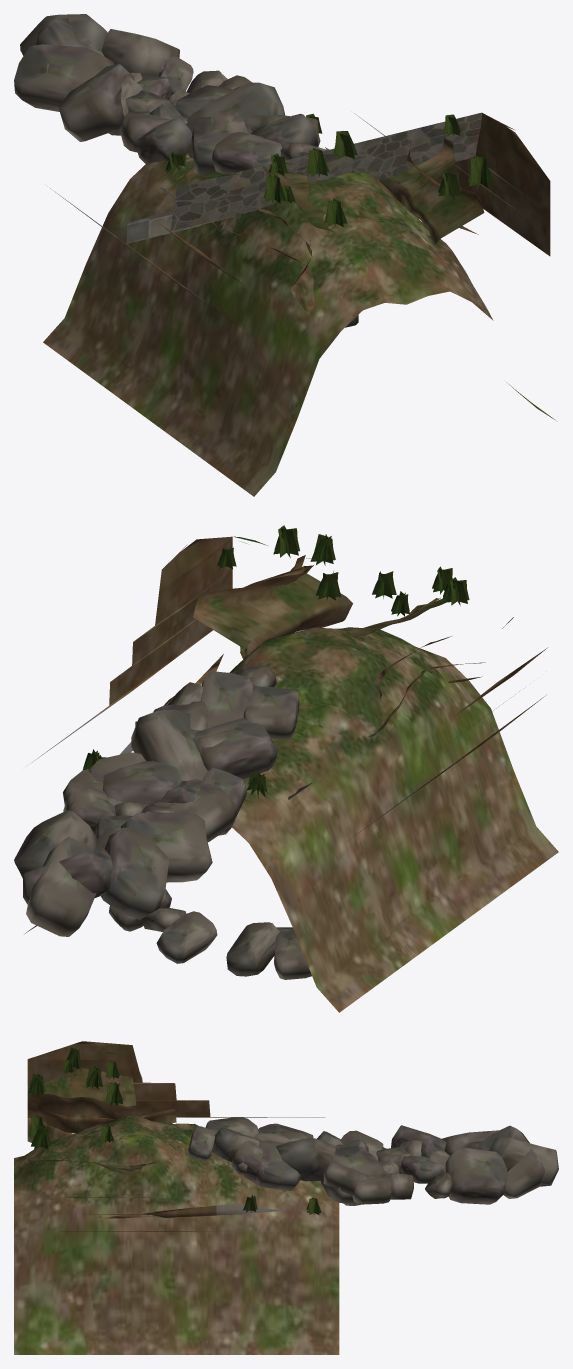
Rendered from starfort_covered_way_hero.glb.
3 renders of one model, top to bottom at view 1: azimuth 30°, elevation 25°; view 2: azimuth 150°, elevation 25°; view 3: azimuth 270°, elevation 25°, orthographic. The views are drawn at different scales.
Parts seen in each view (by area): view 1: breached, cracked, endcap_b, intact, endcap_a; view 2: breached, cracked, endcap_b, endcap_a; view 3: breached, endcap_a, cracked, endcap_b.
Boxes of the visible parts, bbox=[...] form: breached: bbox=[14, 14, 557, 496]; cracked: bbox=[126, 113, 493, 327]; endcap_b: bbox=[354, 113, 550, 256]; intact: bbox=[126, 128, 470, 243]; endcap_a: bbox=[50, 188, 243, 327]; breached: bbox=[14, 536, 558, 1012]; cracked: bbox=[83, 525, 469, 979]; endcap_b: bbox=[27, 536, 232, 765]; endcap_a: bbox=[346, 617, 548, 841]; breached: bbox=[14, 1068, 558, 1354]; endcap_a: bbox=[27, 1041, 324, 1117]; cracked: bbox=[28, 1047, 321, 1214]; endcap_b: bbox=[34, 1196, 277, 1231].
Size of what is drawn, in the model's own units: 4.09 by 3.66 by 8.04.
Materials: 2 (2 with a texture image).
